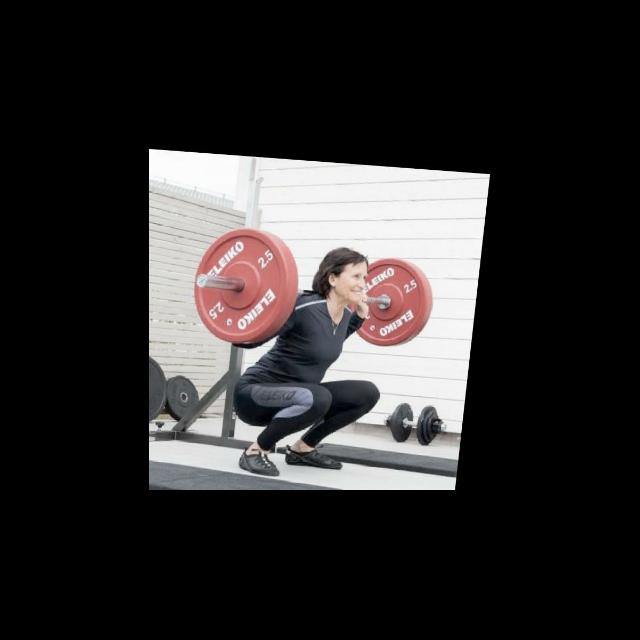barbell: (192, 223, 296, 346)
